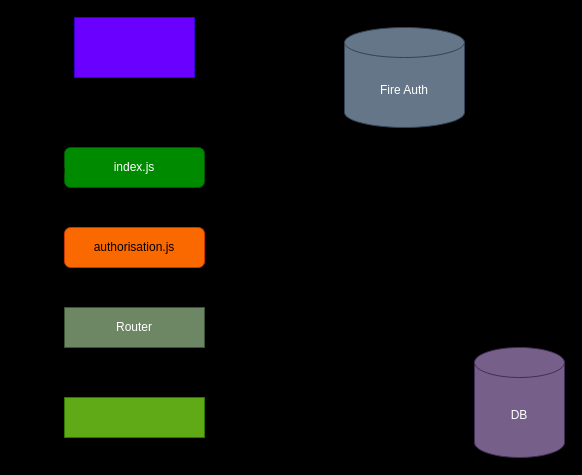
This 582x475 diagram has some shape labels left out. Each missing label, with the centre of its shape:
Controller: (134,417)
UI: (134,47)
